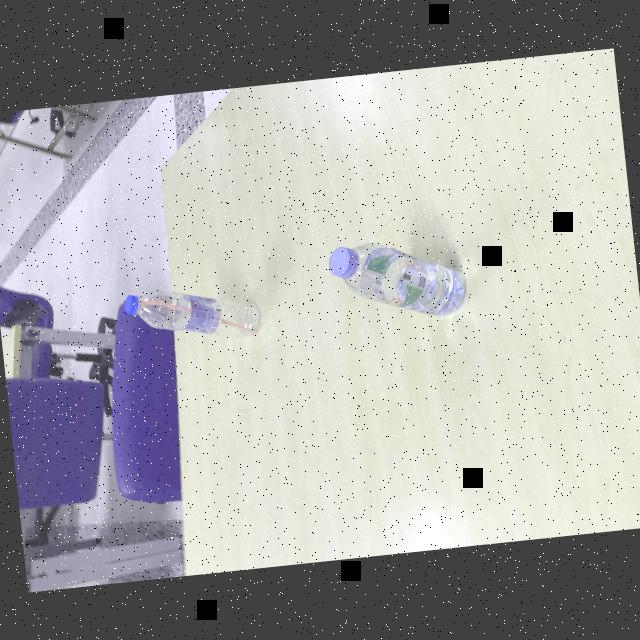plastic_bottle: (321, 232, 472, 328), (117, 277, 266, 346)
plastic_bottle_cap: (326, 246, 358, 280), (120, 294, 140, 316)
straw: (134, 288, 260, 344)
